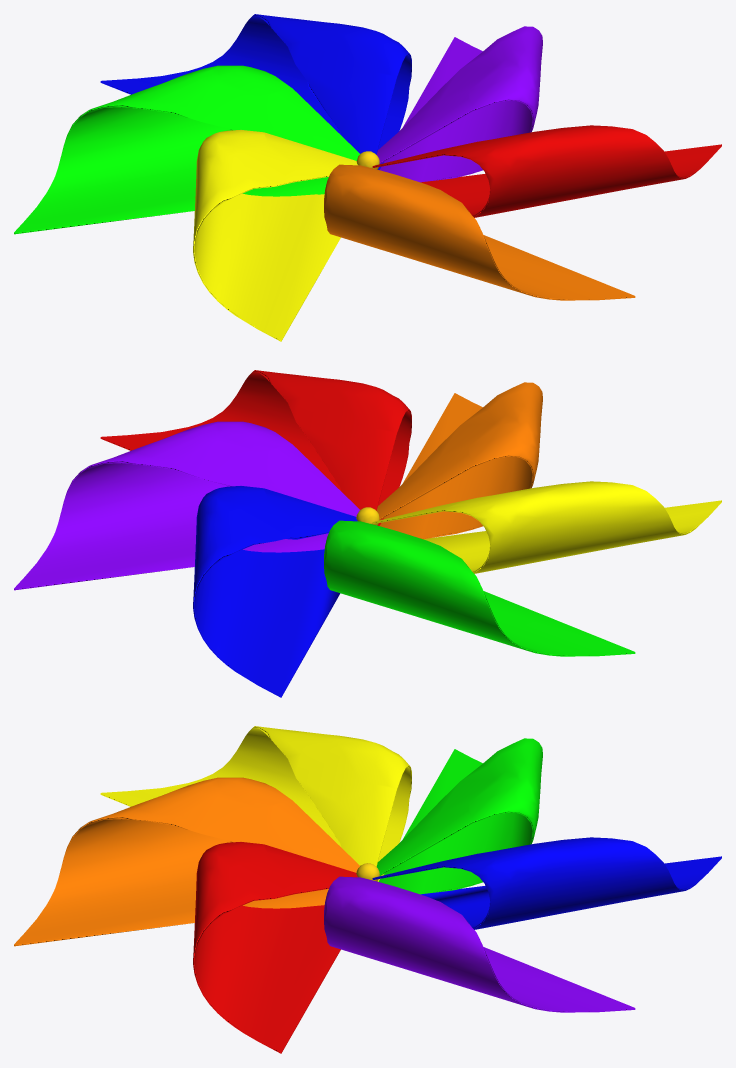
Rendered from girandola2_LOD2.fbx.
3 renders of one model, top to bottom at view 1: azimuth 30°, elevation 25°; view 2: azimuth 150°, elevation 25°; view 3: azimuth 270°, elevation 25°, orthographic.
Parts seen in each view (by area): view 1: Girandole; view 2: Girandole; view 3: Girandole.
Boxes of the visible parts, box(x1,y1,x2,y2) form: Girandole: box(14, 14, 721, 341); Girandole: box(14, 370, 721, 697); Girandole: box(14, 726, 721, 1053).
Size of the model in its own units: 6670 by 1314 by 6583.
